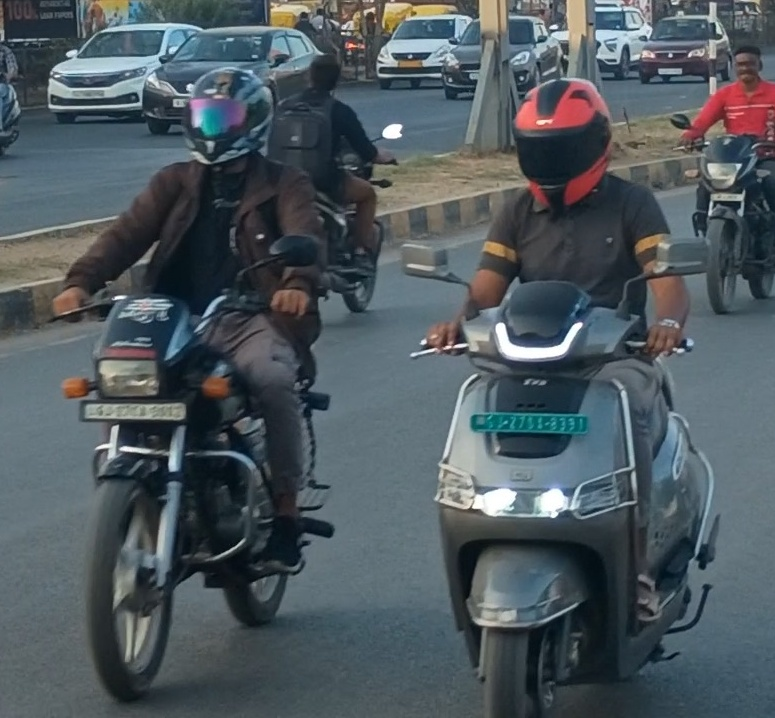BikeWithRider: (394, 70, 730, 718), (38, 60, 341, 710), (258, 44, 408, 321), (663, 38, 775, 320)
Helmet: (502, 70, 625, 213), (170, 60, 283, 175)
NoHelmet: (296, 43, 349, 99), (724, 41, 769, 87)
